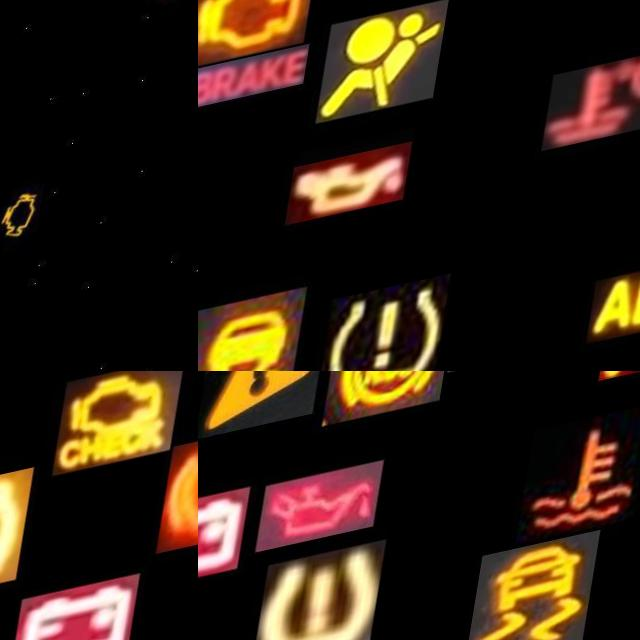Central Warning lamp: (201, 371, 334, 442)
Engine cooling system: (528, 428, 640, 563), (553, 73, 640, 170)
